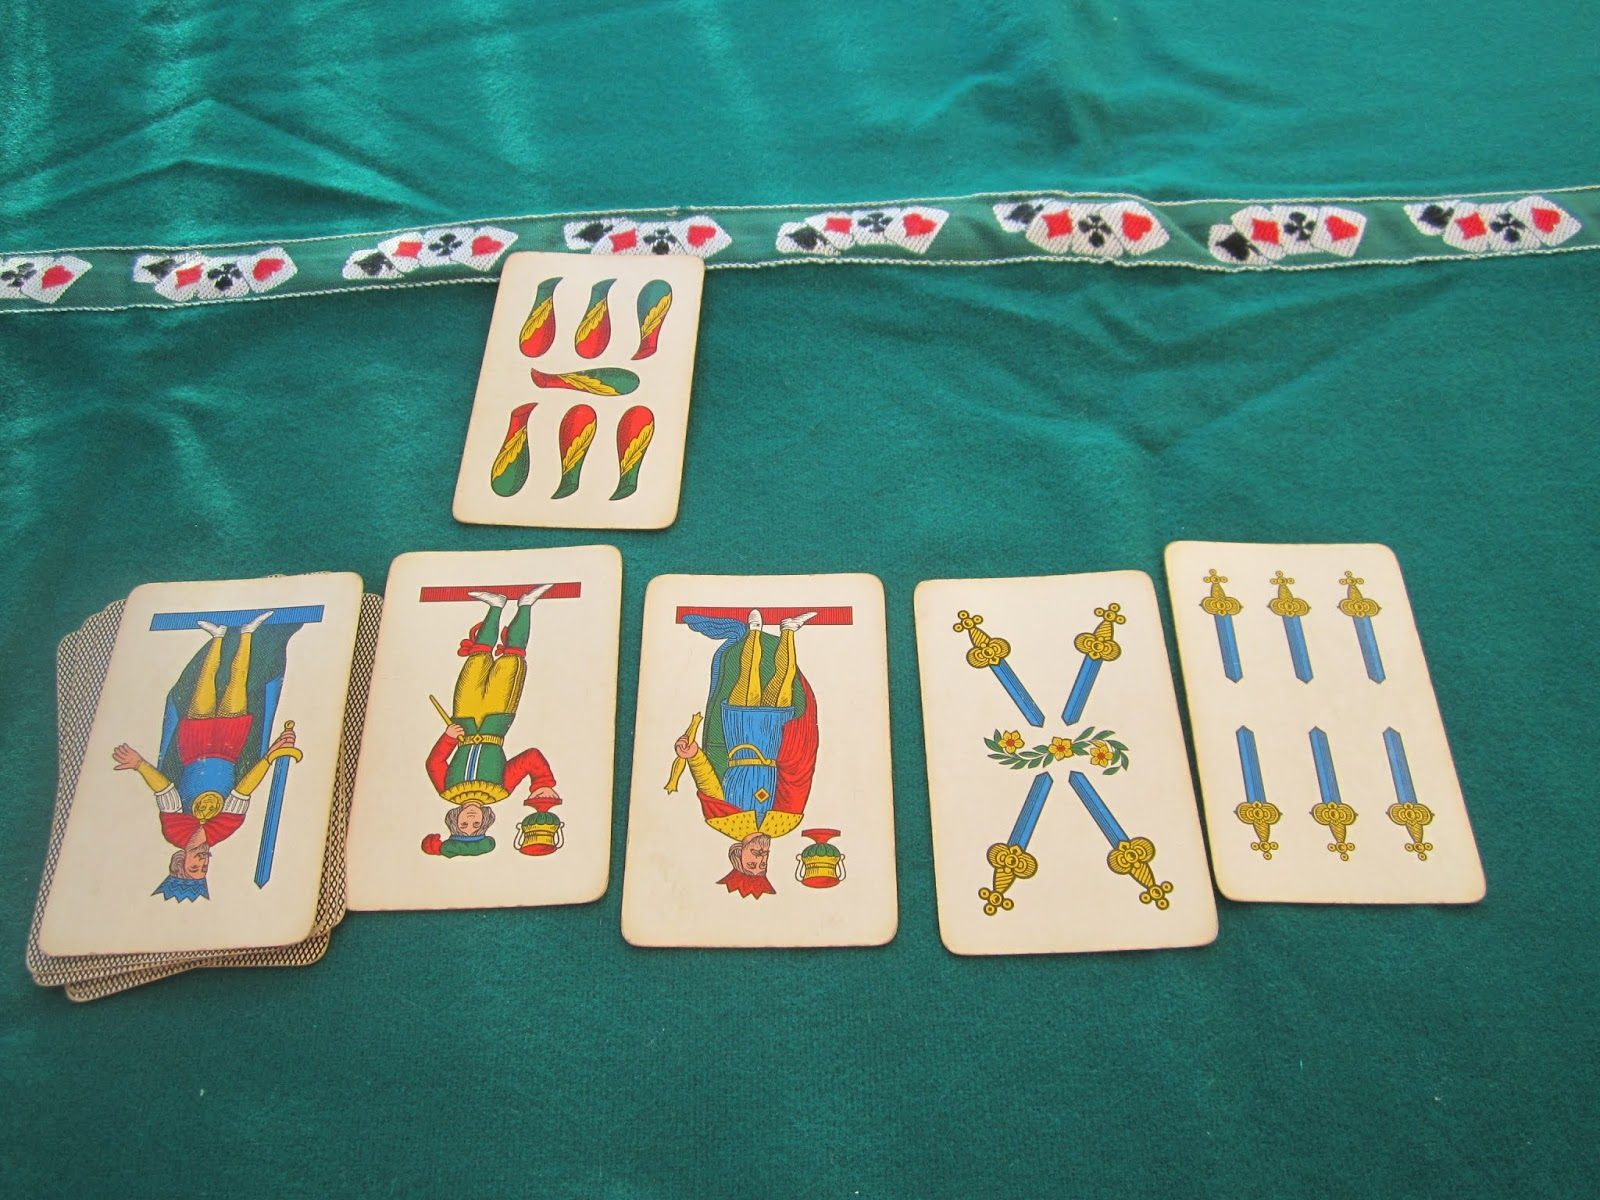coppe: (624, 558, 917, 958), (357, 541, 619, 937)
